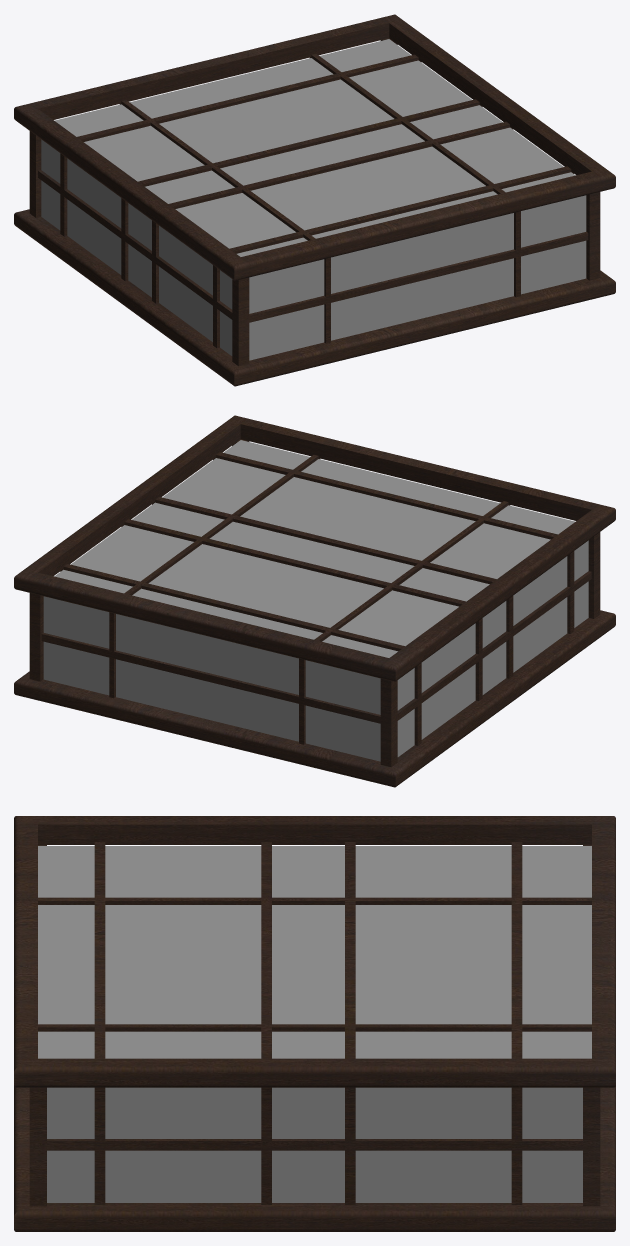
The model's file is Ceiling lamp.FBX.
3 views of the same model, one above another, from view 1: azimuth 30°, elevation 25°; view 2: azimuth 150°, elevation 25°; view 3: azimuth 270°, elevation 25° (orthographic). The views are drawn at different scales.
Visible parts, largest first — view 1: ceiling lamp; view 2: ceiling lamp; view 3: ceiling lamp.
Part boxes in pixels (box(x1,y1,x2,y2)): ceiling lamp: box(14, 14, 615, 386); ceiling lamp: box(14, 415, 615, 787); ceiling lamp: box(14, 816, 615, 1231).
Bounding box in the file's own units: 69.34 × 20.95 × 69.34.
2 materials, 1 textured.
